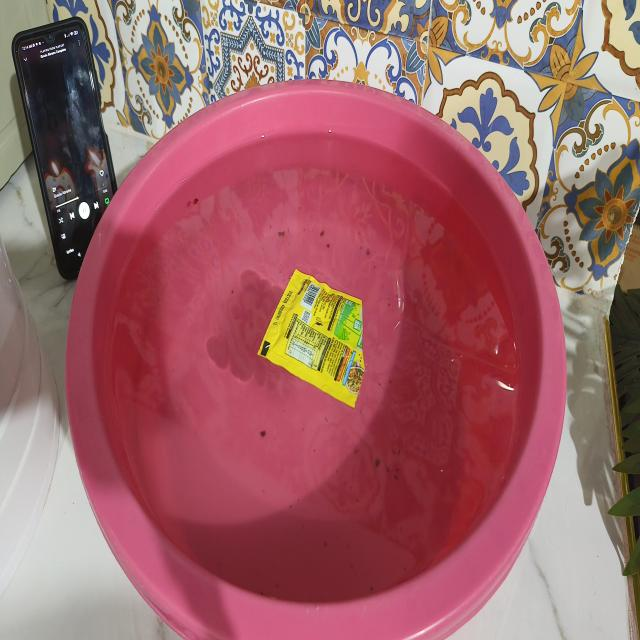Plastic Wrapper: (242, 247, 380, 433)
